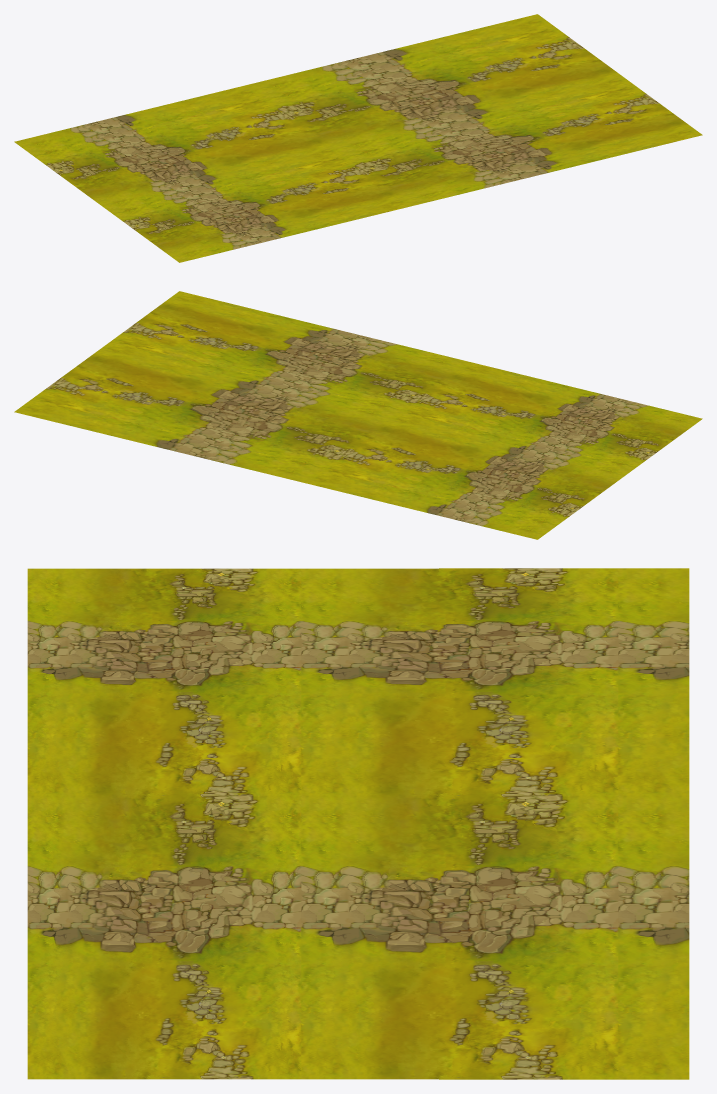
File: sences_changbanpo_daolu002.FBX
The picture shows the model from 3 angles, top to bottom: view 1: azimuth 30°, elevation 25°; view 2: azimuth 150°, elevation 25°; view 3: azimuth 270°, elevation 25°; orthographic projection. The views are drawn at different scales.
Visible parts, largest first — view 1: sences_changbanpo_daolu002; view 2: sences_changbanpo_daolu002; view 3: sences_changbanpo_daolu002.
Boxes of the visible parts, bbox=[...] form: sences_changbanpo_daolu002: bbox=[14, 14, 702, 262]; sences_changbanpo_daolu002: bbox=[14, 291, 702, 539]; sences_changbanpo_daolu002: bbox=[27, 568, 689, 1079].
Size of the model in its own units: 50.41 by 27.58 by 0.
